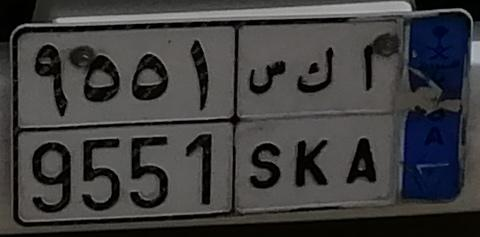1: (185, 37, 216, 208)
5: (82, 53, 123, 212), (130, 52, 171, 209)
9: (31, 41, 73, 213)
A: (344, 43, 377, 184)
K: (295, 46, 335, 187)
S: (249, 59, 287, 190)
